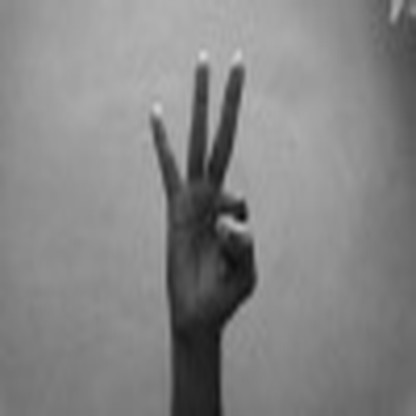f: (116, 42, 276, 319)
